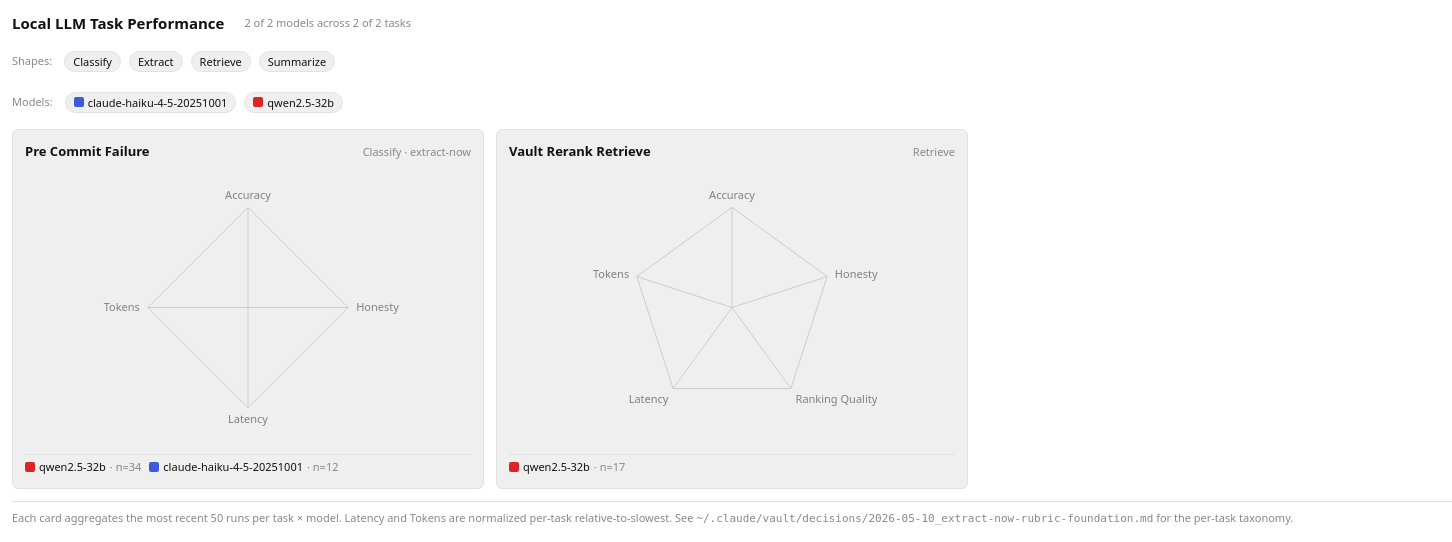
Test: BenchmarksPage — shape filter › clicking a shape pill hides cards of that shape
Expected: the element with test id "tasks-grid" is shown, [12,128,968,488]
Step 1. Click the button with test id "shape-filter-Classify" → {"x": 93, "y": 61}, box [64,50,121,72]
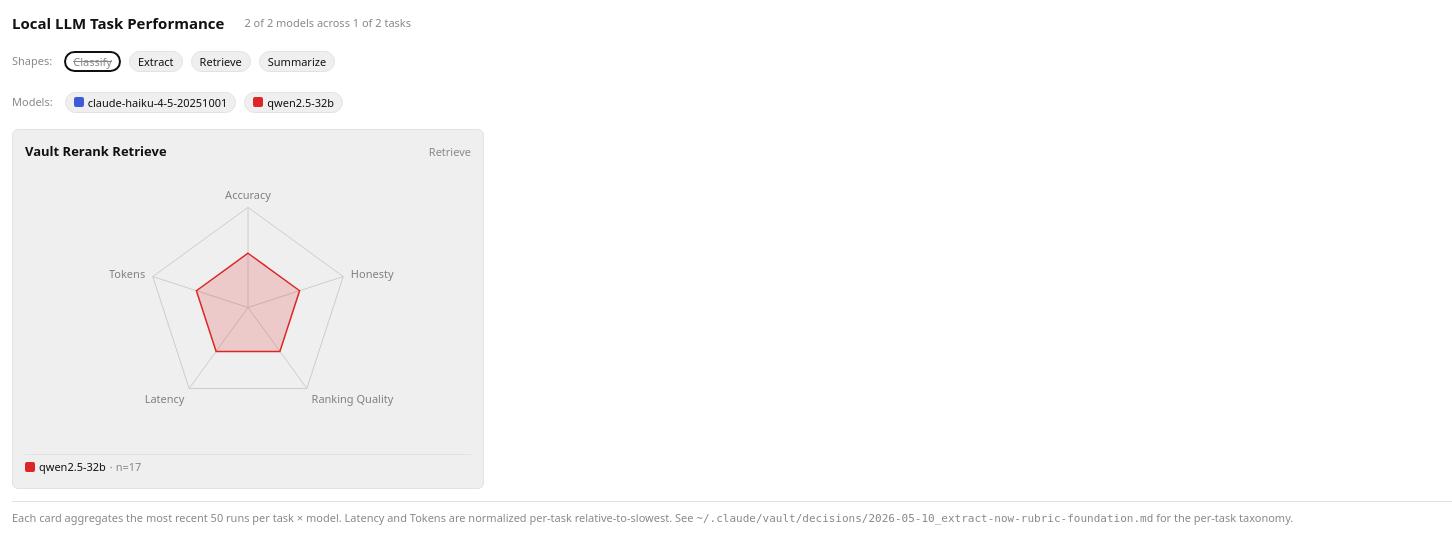
Expected: the element with test id "task-card-vault-rerank-retrieve" is shown, [12,128,484,488]
Result: the element with test id "task-card-pre-commit-failure" is gone
